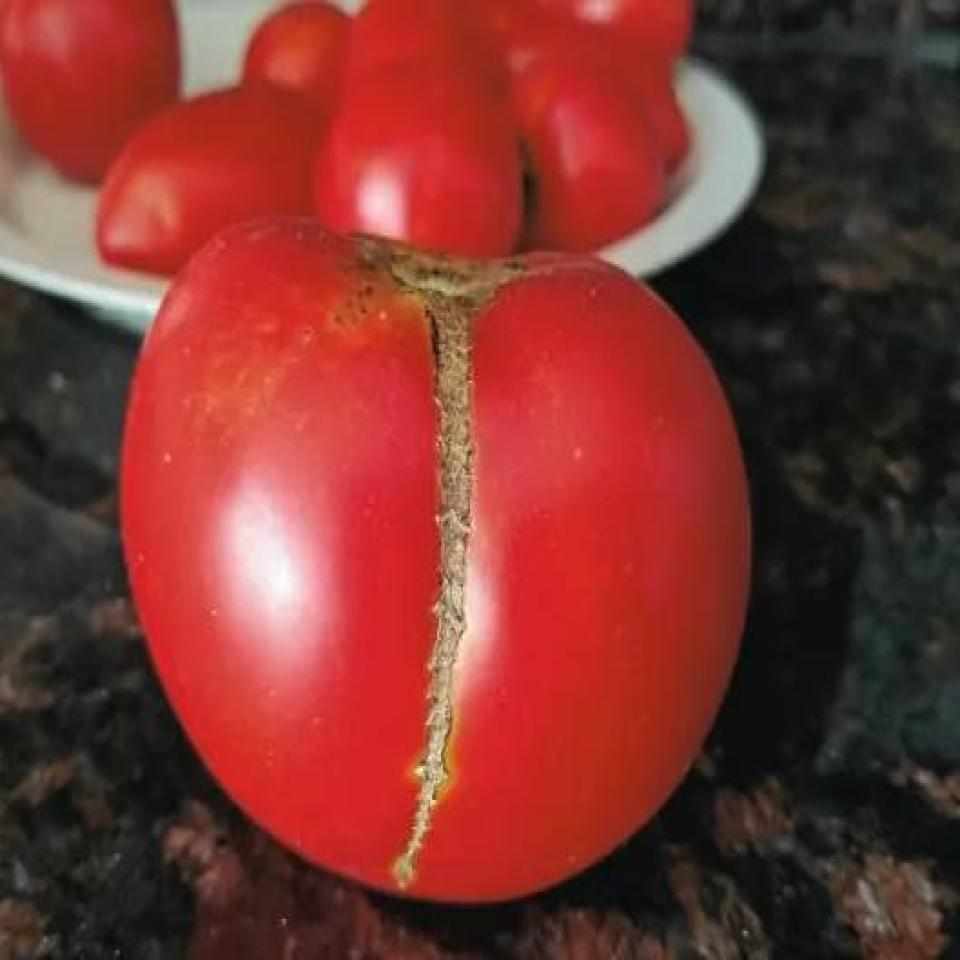Healthy: (345, 55, 533, 258), (123, 85, 323, 248), (6, 6, 217, 154), (538, 43, 654, 221), (242, 2, 350, 119)
